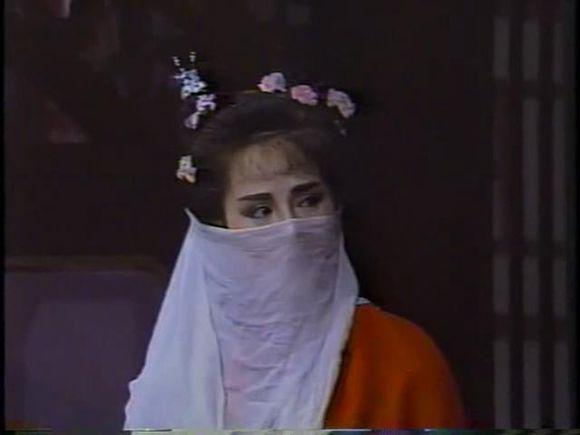OK: (227, 181, 329, 283)
